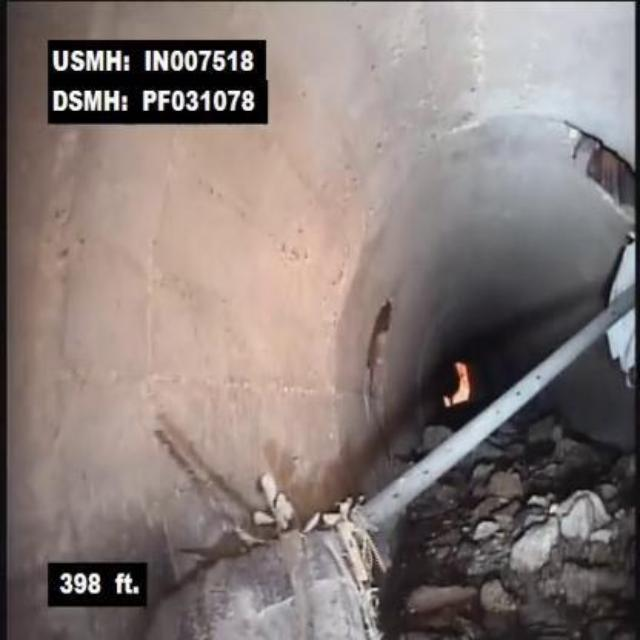Debris: (477, 485, 638, 637)
Utility intrusion: (351, 271, 635, 529)
